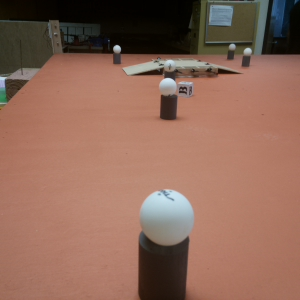obstacle: (136, 189, 191, 300), (159, 79, 178, 120), (112, 45, 122, 66), (242, 47, 252, 67), (165, 59, 176, 77), (228, 44, 236, 60)
side: (178, 65, 217, 78)
slope: (126, 60, 162, 75), (219, 63, 241, 76)
